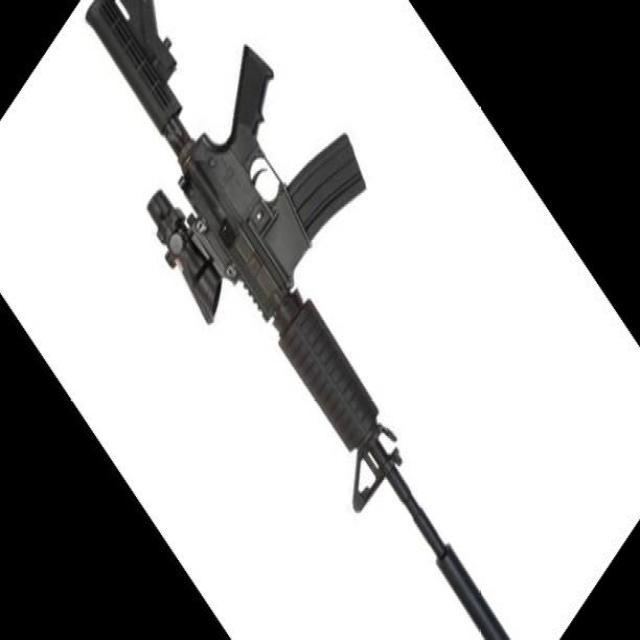weapon: (84, 0, 512, 640)
